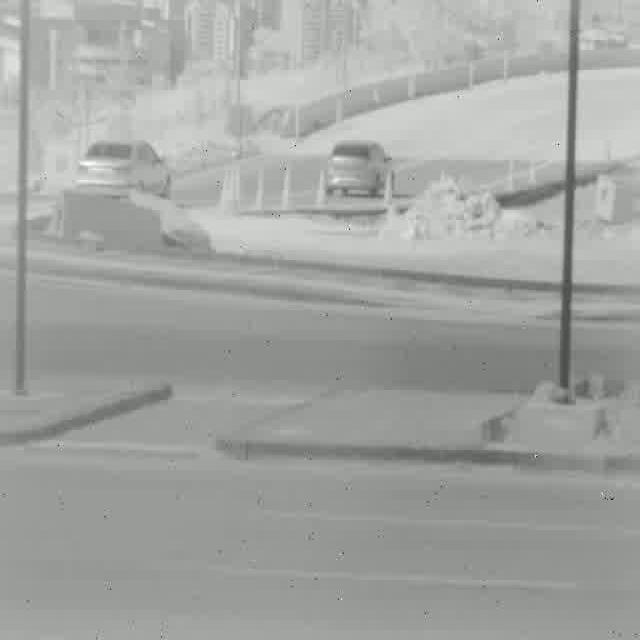Car: (76, 138, 172, 204), (327, 141, 395, 199)
